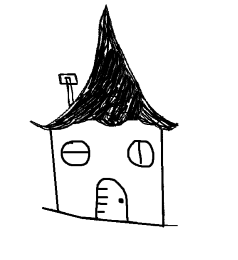chimney: (57, 69, 85, 110)
closed_window: (122, 136, 157, 170), (56, 138, 95, 168)
door: (95, 174, 130, 226)
shaded_roof: (29, 1, 181, 131)
wall: (42, 125, 171, 234)
